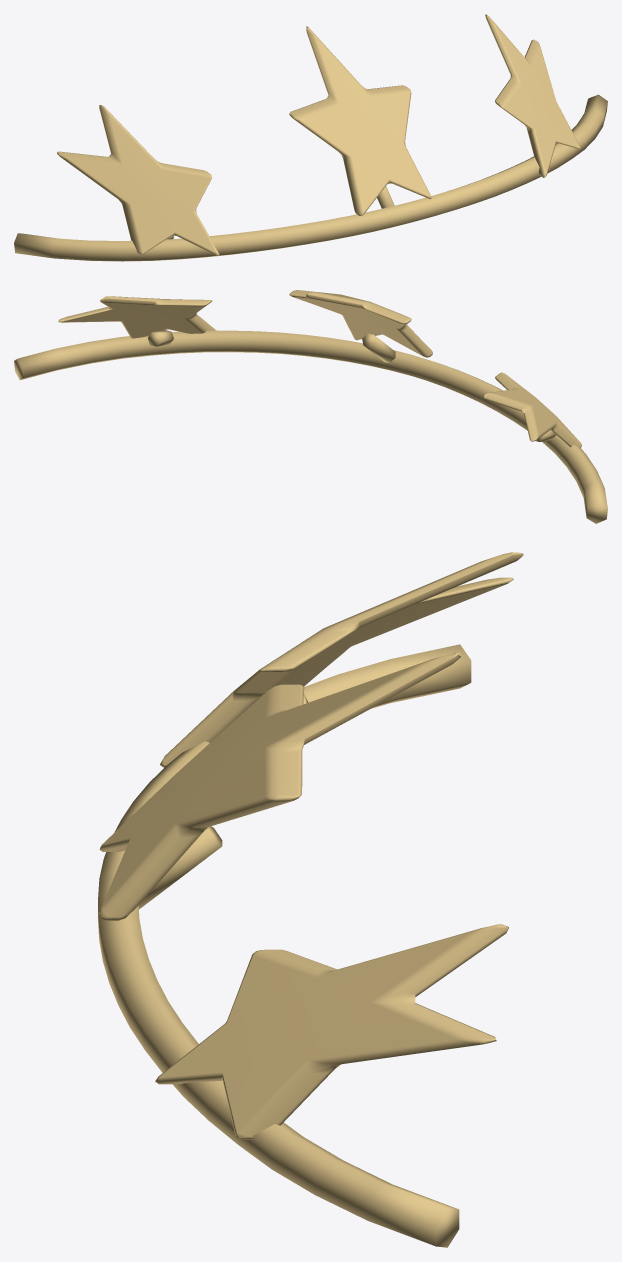
File: star_crown.glb
3 views of the same model, one above another, from view 1: azimuth 30°, elevation 25°; view 2: azimuth 150°, elevation 25°; view 3: azimuth 270°, elevation 25° (orthographic). The views are drawn at different scales.
Visible parts, largest first — view 1: Quiet gold crown band, Rounded crown star 1, Rounded crown star 0, Rounded crown star 2; view 2: Quiet gold crown band, Rounded crown star 2, Rounded crown star 1, Rounded crown star 0, Star stem 1, Star stem 2; view 3: Rounded crown star 2, Quiet gold crown band, Rounded crown star 1, Rounded crown star 0, Star stem 1.
Boxes of the visible parts, bbox=[...] form: Quiet gold crown band: bbox=[14, 94, 607, 261]; Rounded crown star 1: bbox=[289, 26, 431, 215]; Rounded crown star 0: bbox=[57, 105, 219, 256]; Rounded crown star 2: bbox=[485, 14, 580, 177]; Quiet gold crown band: bbox=[14, 330, 607, 523]; Rounded crown star 2: bbox=[58, 296, 216, 338]; Rounded crown star 1: bbox=[289, 290, 432, 357]; Rounded crown star 0: bbox=[483, 372, 581, 447]; Star stem 1: bbox=[362, 333, 395, 363]; Star stem 2: bbox=[148, 330, 173, 346]; Rounded crown star 2: bbox=[155, 924, 508, 1139]; Quiet gold crown band: bbox=[98, 644, 471, 1247]; Rounded crown star 1: bbox=[99, 652, 461, 920]; Rounded crown star 0: bbox=[160, 552, 523, 767]; Star stem 1: bbox=[138, 826, 222, 909].
Size of the model in its own units: 0.8214 by 0.2096 by 0.2565.
